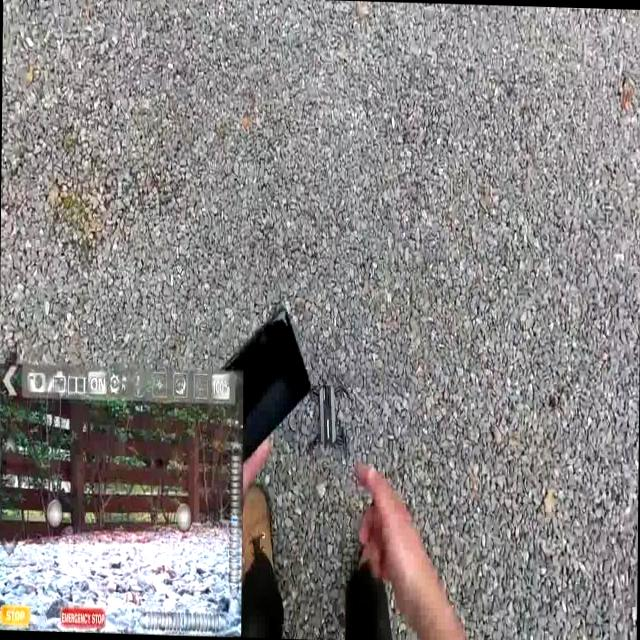drone: (313, 369, 352, 470)
